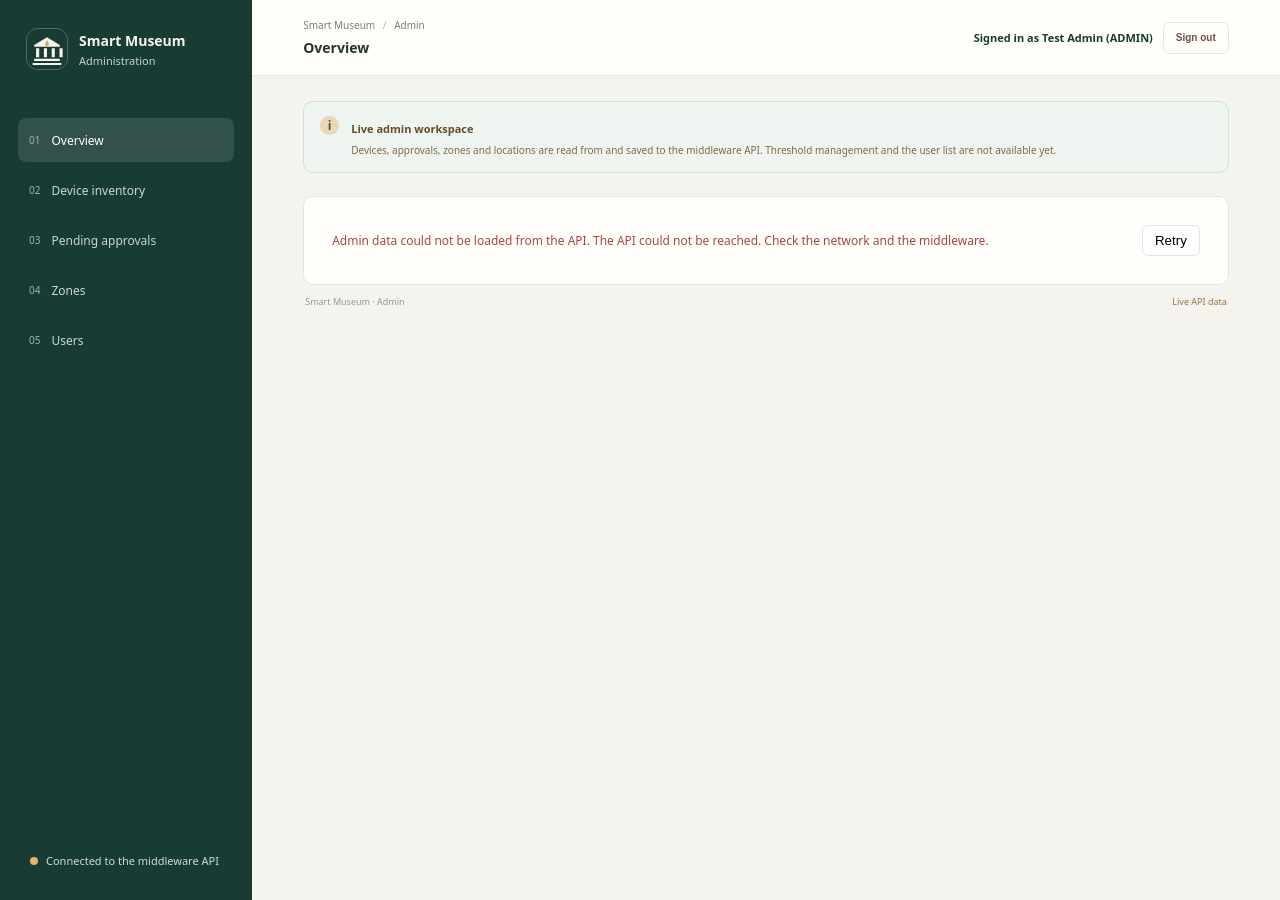
Test: Admin API error states › shows a network failure with Retry and recovers
Check: the message shows "could not be loaded from the API. The API could not be reached", box [332, 232, 989, 249]
What coordinates should you click on to do the following:
click the button "Retry"
I would click on:
 (1171, 240)
Its box is [1142, 225, 1200, 256].
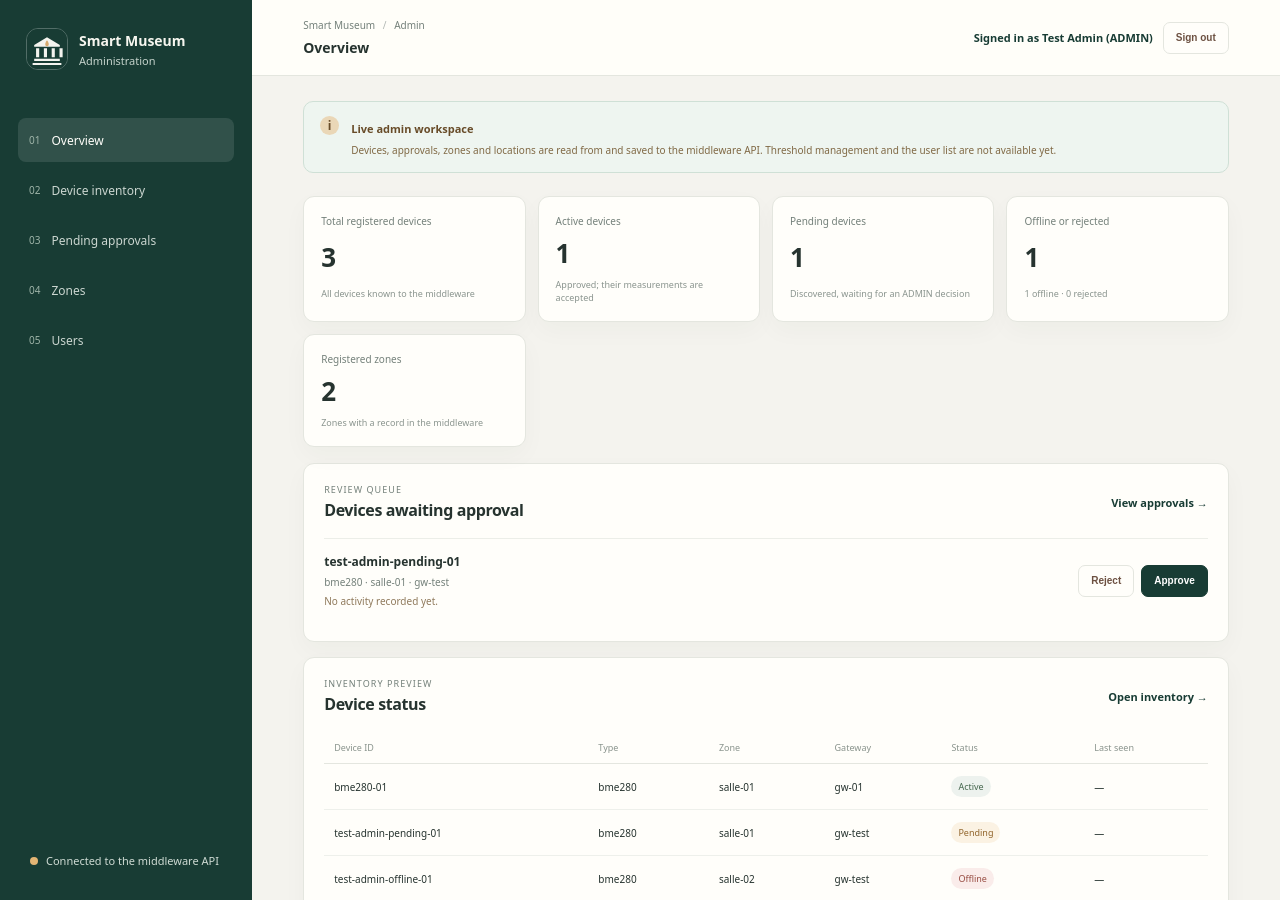
Check: the text "Total registered devices" is shown, box [321, 214, 432, 228]
